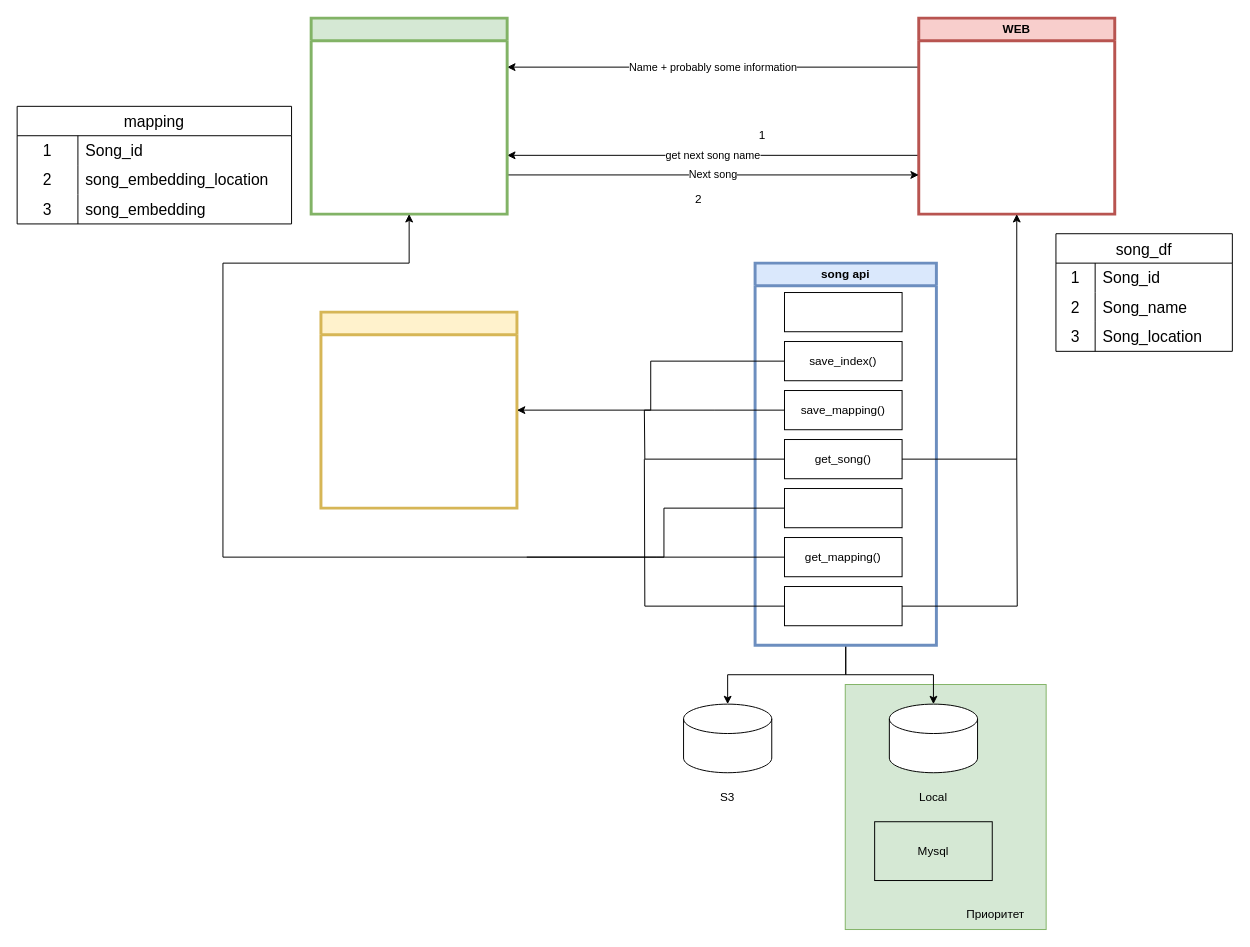
Image size: 1250x947. Some labels were removed from this diagram. Each missing label, with the centre of its shape:
"get_index()" belongs at pixel 843 508.
"get_song_df()" belongs at pixel 843 606.
"MEM" belongs at pixel 408 115.
"save_song()" belongs at pixel 843 312.
"Vectorizer" belongs at pixel 418 409.
